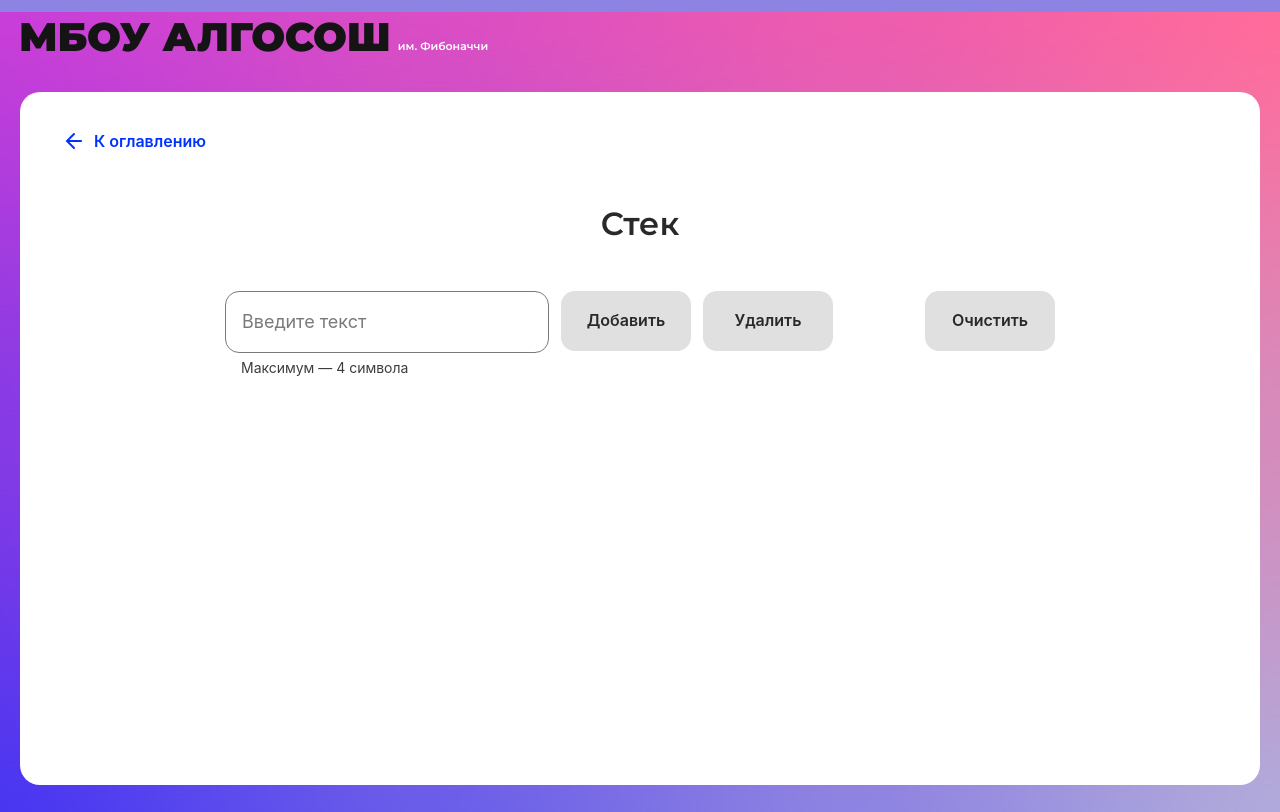
Проверка стека › Кнопка разблокирована (Инпут заполнен)
The image size is (1280, 812).
Type "5" into the field with placeholder "Введите текст".
click(387, 322); type("5")  # box [225,291,549,353]
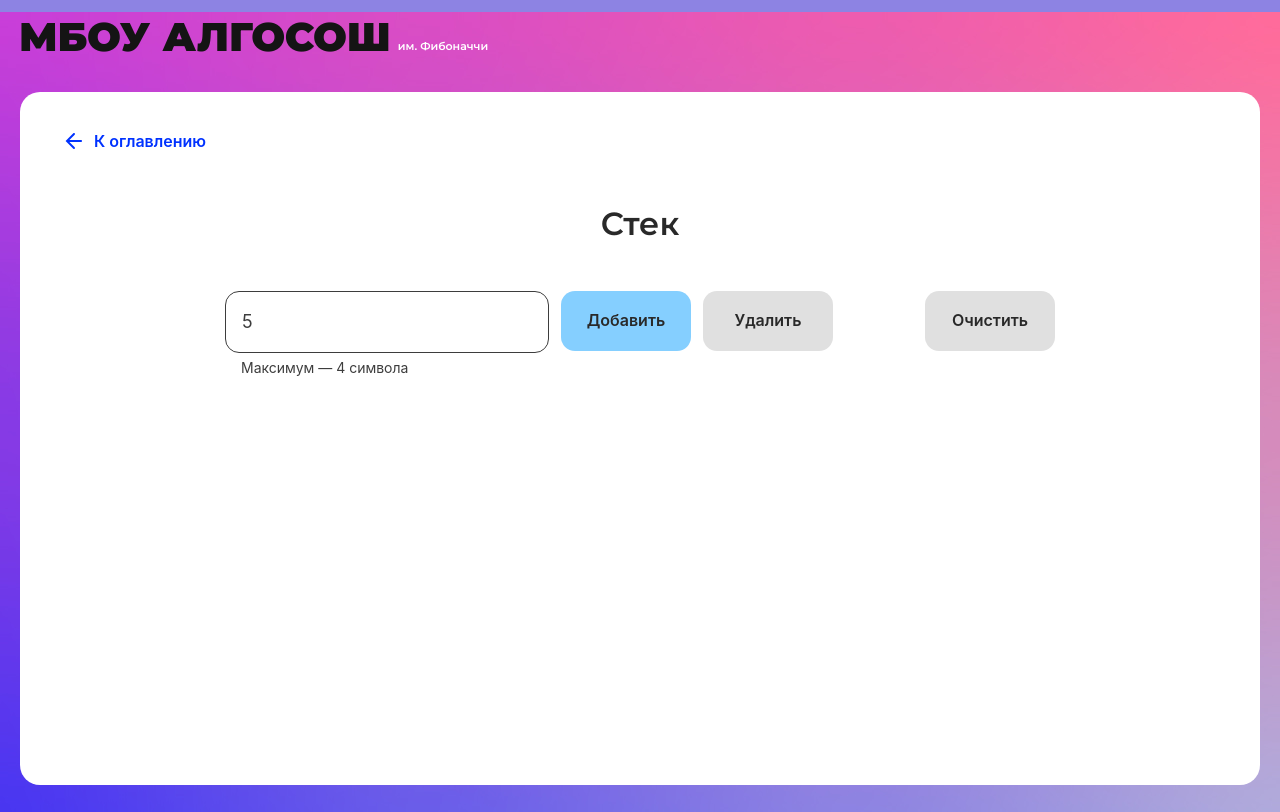
Expected: the button "Удалить" is disabled, [703,291,833,351]
Now the button "Добавить" is enabled, box [561,291,691,351]
